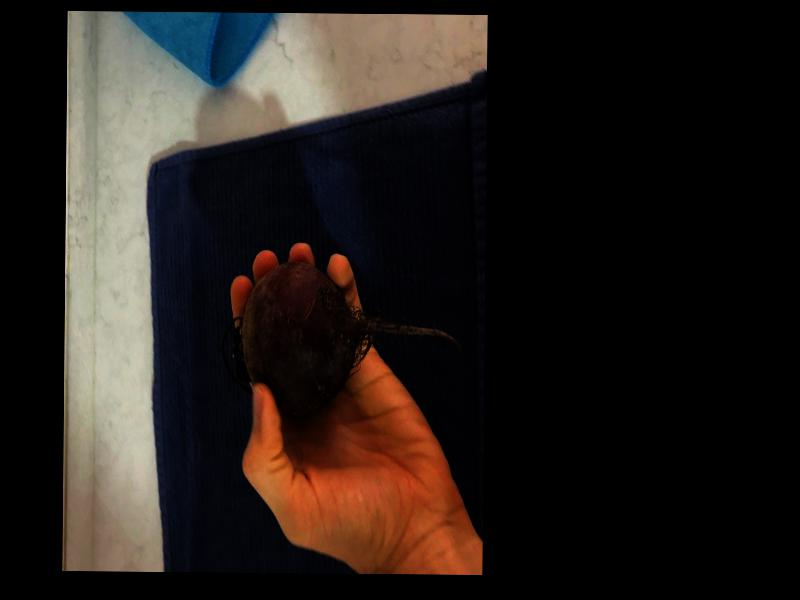Beet: (221, 260, 462, 416)
